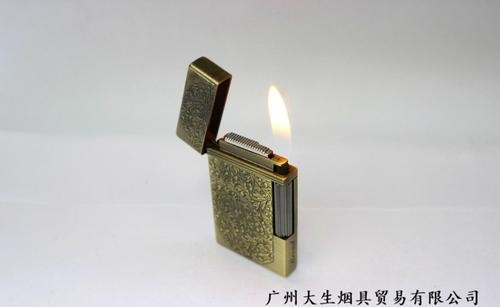fire: (265, 82, 292, 140)
